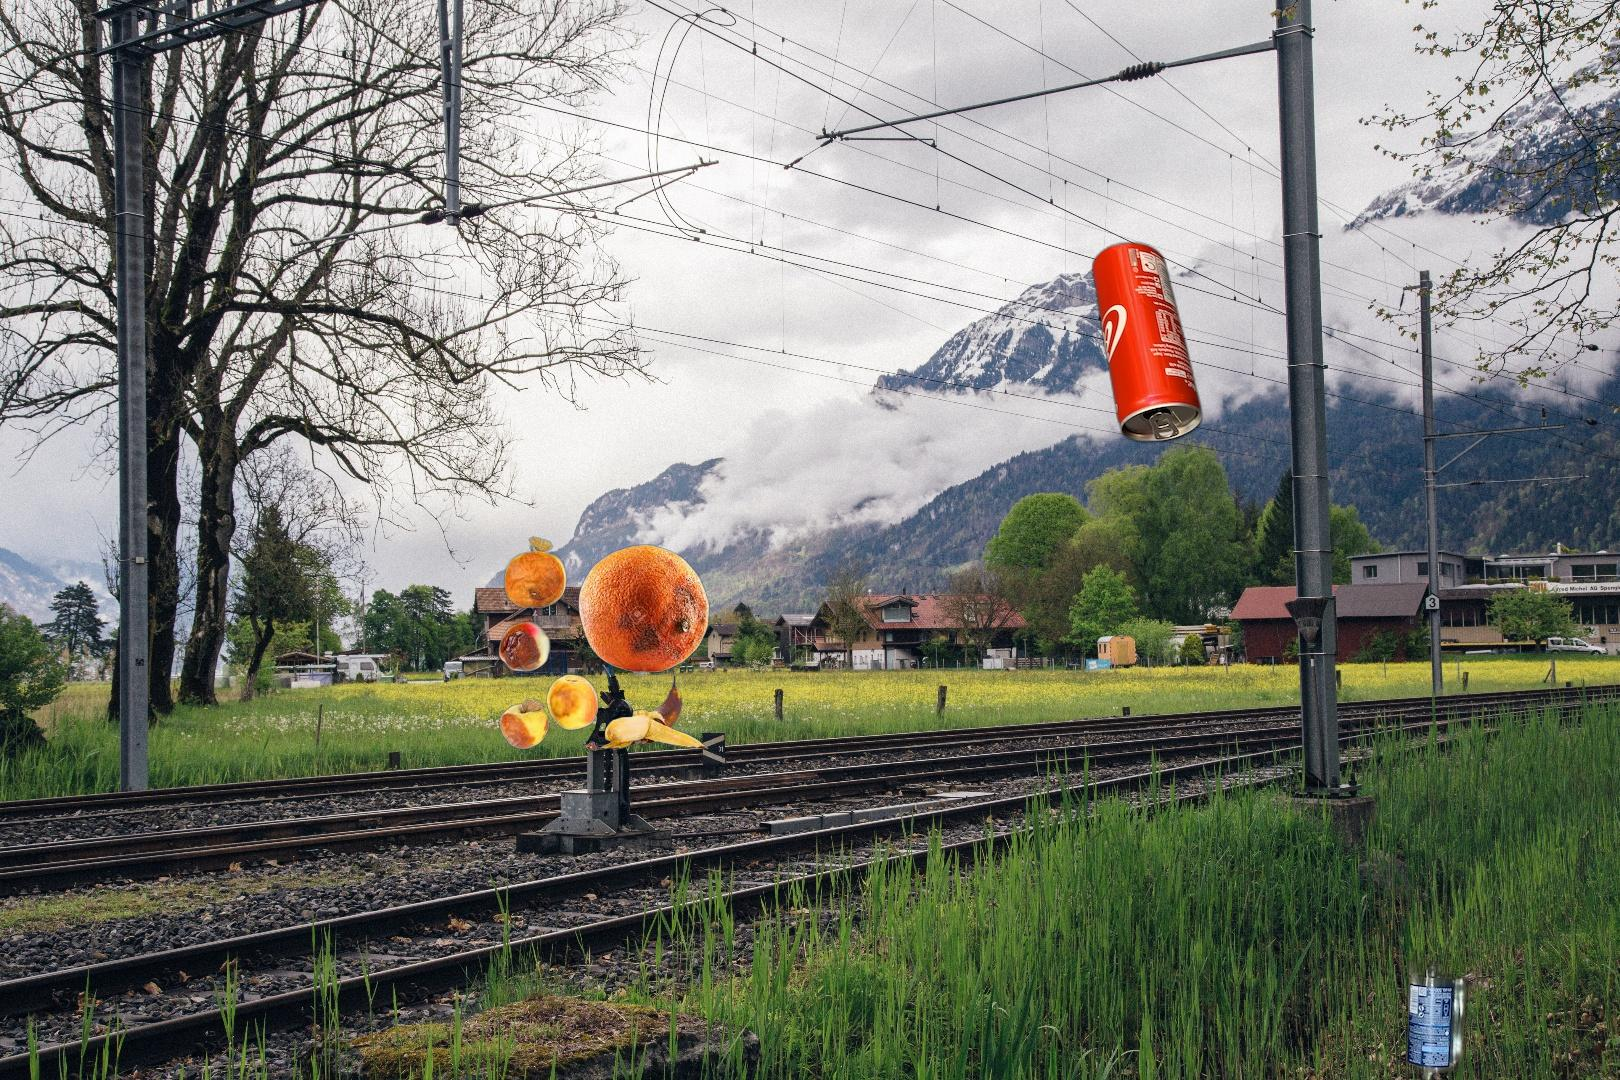biological: (495, 534, 718, 758)
glass: (1399, 944, 1477, 1080)
metal-cans: (1087, 236, 1207, 448)
